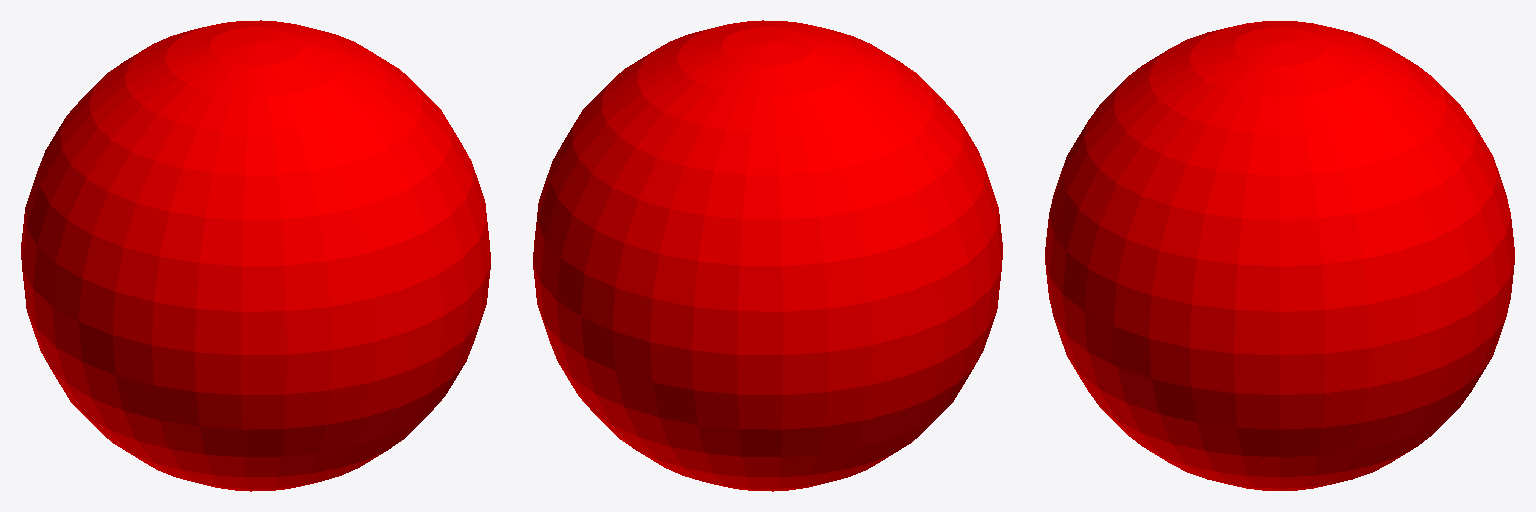
robot.urdf — Hexapod_mockup.SLDASM:
<?xml version="1.0" encoding="utf-8"?>
<!-- This URDF was automatically created by SolidWorks to URDF Exporter! Originally created by [author] ([email redacted]) 
     Commit Version: 1.6.0-4-g7f85cfe  Build Version: 1.6.7995.38578
     For more information, please see http://wiki.ros.org/sw_urdf_exporter -->
<robot
  name="Hexapod_mockup.SLDASM">
  <!-- Base -->
  <link name="BaseLink">
    <inertial>
      <origin
        xyz="0 -3.5527136788005E-15 0"
        rpy="0 0 0" />
      <mass
        value="3.05379730217776" />
      <inertia
        ixx="0.0134244037728851"
        ixy="1.32348898009124E-20"
        ixz="1.05879118406788E-19"
        iyy="0.0134244037728849"
        iyz="-8.60267837055149E-20"
        izz="0.0247789880905595" />
    </inertial>
    <visual>
      <origin
        xyz="-0.13719 -0.153 -0.035"
        rpy="0 0 0" />
      <geometry>
        <mesh
          filename="file://[local-path]/Documents/Hexapod/PhysicalAI_modelling/Models/SingleLeg/Mesh/Mockup Body.obj" />
      </geometry>
      <material
        name="">
        <color
          rgba="0.792156862745098 0.819607843137255 0.933333333333333 1" />
      </material>
    </visual>
    <collision>
      <origin
        xyz="0 0 0"
        rpy="0 0 0" />
      <geometry>
        <mesh
          filename="file://[local-path]/Documents/Hexapod/PhysicalAI_modelling/Models/SingleLeg/Mesh/Mockup Body.obj" />
      </geometry>
    </collision>
  </link>
  <!-- Legs -->
  <link
    name="HeelLink">
    <inertial>
      <origin
        xyz="-0.0619677535958516 3.5527136788005E-15 -1.94289029309402E-16"
        rpy="0 0 0" />
      <mass
        value="0.301606825077316" />
      <inertia
        ixx="0.000243458090535534"
        ixy="3.28479376945218E-18"
        ixz="-7.65547297868403E-19"
        iyy="0.000676411825972959"
        iyz="-1.39023672630577E-19"
        izz="0.000582709128938065" />
    </inertial>
    <!-- <visual>
      <origin
        xyz="0 0 0"
        rpy="0 0 0" />
      <geometry>
        <mesh
          filename="file://[local-path]/Documents/Hexapod/PhysicalAI_modelling/Models/SingleLeg/Mesh/HeelLink.obj" />
      </geometry>
      <material
        name="">
        <color
          rgba="0.792156862745098 0.819607843137255 0.933333333333333 1" />
      </material>
    </visual> -->
    <collision>
      <origin
        xyz="0 0 0"
        rpy="0 0 0" />
      <geometry>
        <mesh
          filename="file://[local-path]/Documents/Hexapod/PhysicalAI_modelling/Models/SingleLeg/Mesh/HeelLink.obj" />
      </geometry>
    </collision>
  </link>
  <joint
    name="HeelJoint"
    type="revolute">
    <origin
      xyz="0 0.118 0"
      rpy="3.1416 0 -1.5705" />
    <parent
      link="BaseLink" />
    <child
      link="HeelLink" />
    <axis
      xyz="0 0 -1" />
    <limit
      lower="-3.14"
      upper="3.14"
      effort="0"
      velocity="0" />
  </joint>
  <link
    name="HipLink">
    <inertial>
      <origin
        xyz="-0.0163079071961647 0.0741080143062312 -1.06581410364015E-14"
        rpy="0 0 0" />
      <mass
        value="0.382897249240284" />
      <inertia
        ixx="0.00117906479710534"
        ixy="0.000284084835728015"
        ixz="7.29125960996502E-18"
        iyy="0.000554675269889953"
        iyz="-5.72594281359059E-18"
        izz="0.00117232064788202" />
    </inertial>
    <!-- <visual>
      <origin
        xyz="0 0 0"
        rpy="0 0 0" />
      <geometry>
        <mesh
          filename="file://[local-path]/Documents/Hexapod/PhysicalAI_modelling/Models/SingleLeg/Mesh/HipLink.obj" />
      </geometry>
      <material
        name="">
        <color
          rgba="0.792156862745098 0.819607843137255 0.933333333333333 1" />
      </material>
    </visual> -->
    <collision>
      <origin
        xyz="0 0 0"
        rpy="0 0 0" />
      <geometry>
        <mesh
          filename="file://[local-path]/Documents/Hexapod/PhysicalAI_modelling/Models/SingleLeg/Mesh/HipLink.obj" />
      </geometry>
    </collision>
  </link>
  <joint
    name="HipJoint"
    type="revolute">
    <origin
      xyz="-0.09 0 0"
      rpy="-1.5708 0 0" />
    <parent
      link="HeelLink" />
    <child
      link="HipLink" />
    <axis
      xyz="0 0 1" />
    <limit
      lower="-3.14"
      upper="3.14"
      effort="0"
      velocity="0" />
  </joint>
  <link
    name="KneeLink">
    <inertial>
      <origin
        xyz="-0.0342934938820143 -0.0234797596189455 -3.5527136788005E-15"
        rpy="0 0 0" />
      <mass
        value="0.252925405164945" />
      <inertia
        ixx="0.000608070877297243"
        ixy="-0.000656306112936175"
        ixz="-2.71050543121376E-18"
        iyy="0.000972047912340625"
        iyz="-2.99510861702139E-18"
        izz="0.00150234212169954" />
    </inertial>
    <visual>
      <origin
        xyz="0.035 -0.260  -0.025"
        rpy="0 0 1.5707963267949" />
      <geometry>
        <mesh
          filename="file://[local-path]/Documents/Hexapod/PhysicalAI_modelling/Models/SingleLeg/Mesh/KneeLink.obj" />
      </geometry>
      <material
        name="">
        <color
          rgba="0.792156862745098 0.819607843137255 0.933333333333333 1" />
      </material>
    </visual>
    <collision>
      <origin
        xyz="0 0 0"
        rpy="0 0 0" />
      <geometry>
        <mesh
          filename="file://[local-path]/Documents/Hexapod/PhysicalAI_modelling/Models/SingleLeg/Mesh/KneeLink.obj" />
      </geometry>
    </collision>
  </link>
  <joint
    name="KneeJoint"
    type="revolute">
    <!-- <origin
      xyz="-0.054123 0.1399 0"
      rpy="0 0 0" /> -->
    <origin
      xyz="-0.116 0.09308 0"
      rpy="0 0 0" />
    <parent
      link="HipLink" />
    <child
      link="KneeLink" />
    <axis
      xyz="0 0 1" />
    <limit
      lower="-3.14"
      upper="3.14"
      effort="0"
      velocity="0" />
  </joint>

  <link
    name="Endeffector">
    <inertial>
      <origin
        xyz="0.348911870820384 0.00401360865794587 0.183649622985126"
        rpy="0 0 0" />
      <mass
        value="8.67837417907314" />
      <inertia
        ixx="0.228113976678788"
        ixy="-0.00290159249994303"
        ixz="0.00411759439646013"
        iyy="0.227232841215942"
        iyz="-0.000300928473787722"
        izz="0.415645974012726" />
    </inertial>
    <visual>
      <origin
        xyz="0 0 0"
        rpy="0 0 0" />
      <geometry>
        <sphere radius="0.005"/>
      </geometry>
      <material
        name="">
        <color
          rgba="1 0 0 1" />
      </material>
    </visual>
    <collision>
      <origin
        xyz="0 0 0"
        rpy="0 0 0" />
      <geometry>
        <sphere radius="0.005"/>
      </geometry>
    </collision>
  </link>
  <joint
    name="Endeffector"
    type="fixed">
    <origin
      xyz="-0.025 -0.26 0"
      rpy="-1.5707963267949 1.5707963267949 0.0" />
    <parent
      link="KneeLink" />
    <child
      link="Endeffector" />
    <axis
      xyz="0 0 0" />
  </joint>
</robot>

--- Facts derived from the render (not from the file) ---
3 views of the same robot in one strip: view 1: azimuth 30°, elevation 25°; view 2: azimuth 150°, elevation 25°; view 3: azimuth 270°, elevation 25° (orthographic).
Robot: Hexapod_mockup.SLDASM — 5 links, 4 joints (3 revolute, 1 fixed); root link BaseLink; default pose: all joints at 0.
Links seen in each view (by area): view 1: Endeffector; view 2: Endeffector; view 3: Endeffector.
Boxes of the visible links, x1,y1,x2,y2 form: Endeffector: [21, 20, 490, 491]; Endeffector: [533, 20, 1002, 491]; Endeffector: [1045, 21, 1514, 490].
Bounding box of the posed robot: 0.01 × 0.01 × 0.01 m (x, y, z).
Geometry: only primitive shapes (box / cylinder / sphere) drawn; not drawn: 2 mesh visuals (reference in a form the renderer does not follow).